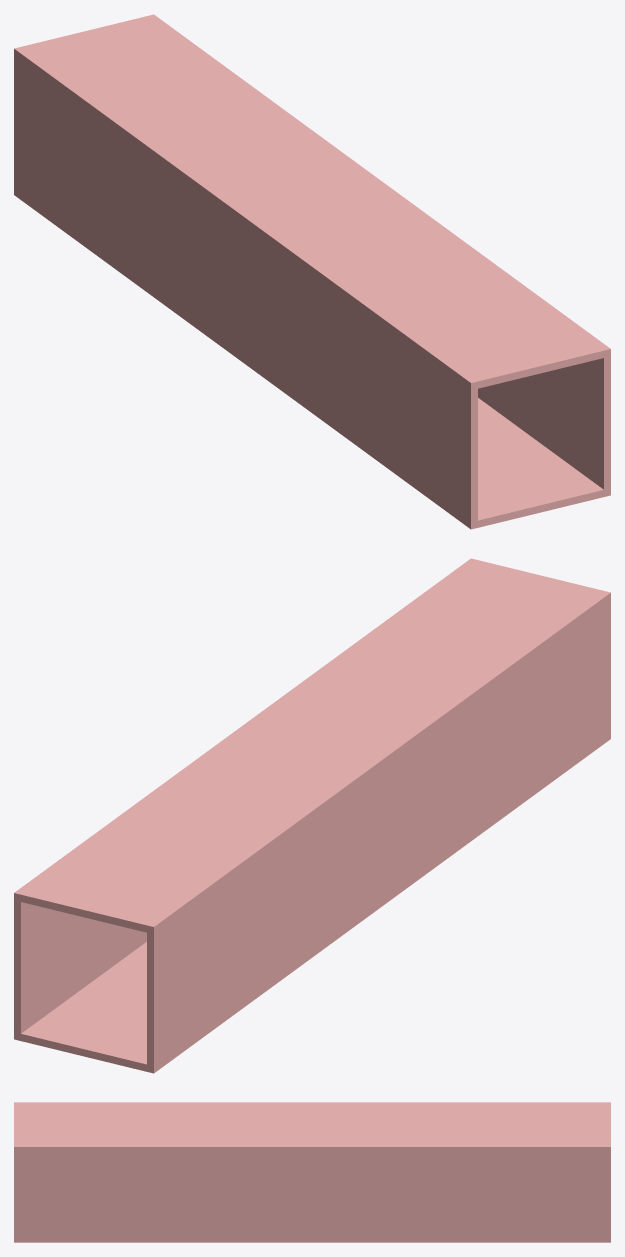
The picture shows the model from 3 angles, top to bottom: view 1: azimuth 30°, elevation 25°; view 2: azimuth 150°, elevation 25°; view 3: azimuth 270°, elevation 25°; orthographic projection. The views are drawn at different scales.
Visible parts, largest first — view 1: <组件#33>_6; view 2: <组件#33>_6; view 3: <组件#33>_6.
Part boxes in pixels (x1,y1,x2,y2): <组件#33>_6: (14,14,610,529); <组件#33>_6: (14,558,610,1073); <组件#33>_6: (14,1102,610,1242).
Bounding box in the file's own units: 1.18 × 1.18 × 6.68.
